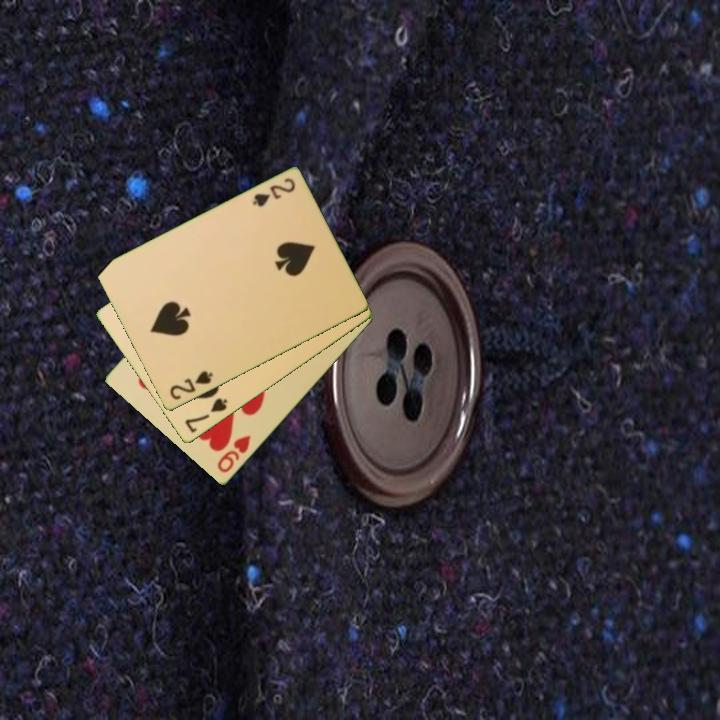2s: (166, 367, 216, 403), (249, 174, 298, 210)
7s: (181, 395, 231, 436)
9h: (214, 432, 254, 476)
